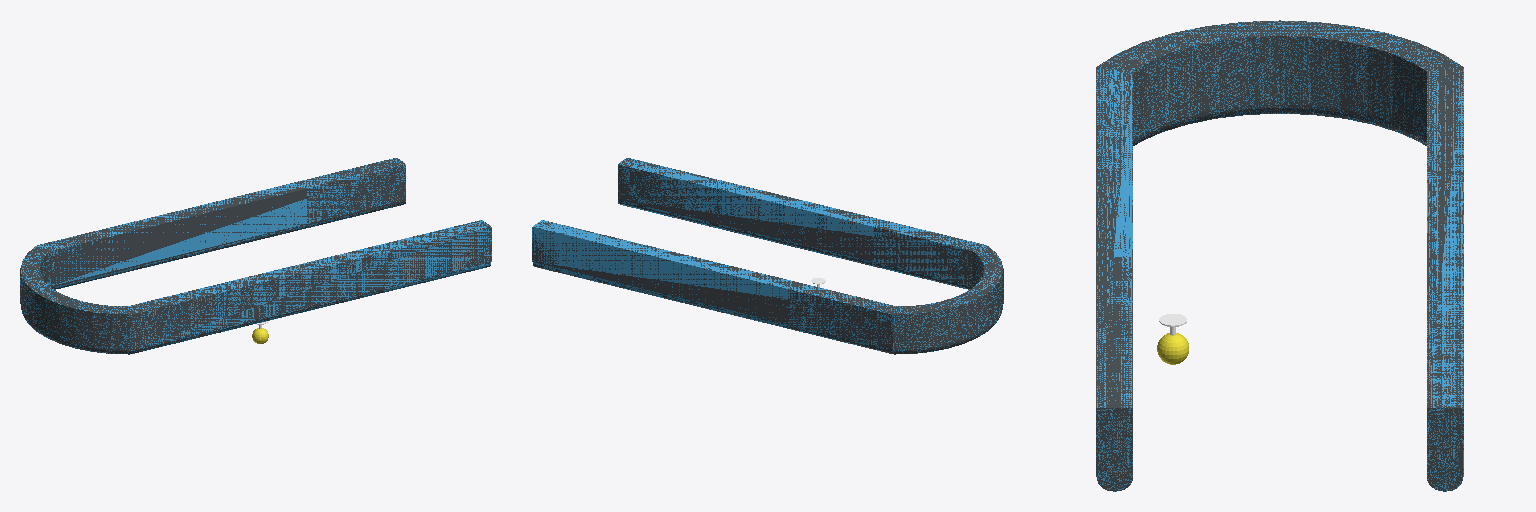
robot.urdf — right-pull-door:
<?xml version="1.0" ?>
<robot name="right-pull-door">
	<link name="base"/>
	<link name="link_0">
		<visual name="out-frame">
			<origin xyz="0 0 0"/>
			<geometry>
				<mesh filename="texture_dae/frame.dae" scale="0.7385647294113814 0.7385647294113814 0.7385647294113814"/>
			</geometry>
		</visual>
		<collision>
			<origin xyz="0 0 0"/>
			<geometry>
				<mesh filename="texture_dae/frame.dae" scale="0.7385647294113814 0.7385647294113814 0.7385647294113814"/>
			</geometry>
		</collision>
	</link>
	<joint name="joint_0" type="fixed">
		<origin rpy="1.570796326794897 0 -1.570796326794897" xyz="0 0 0"/>
		<child link="link_0"/>
		<parent link="base"/>
	</joint>
	<link name="link_1">
		<visual name="surf-board">
			<origin xyz="0.2948917882924568 -0.8479565114682159 0"/>
			<geometry>
				<mesh filename="texture_dae/board.dae" scale="0.7385647294113814 0.7385647294113814 0.7385647294113814"/>
			</geometry>
		</visual>
		<collision>
			<origin xyz="0.2948917882924568 -0.8479565114682159 0"/>
			<geometry>
				<mesh filename="texture_dae/board.dae" scale="0.7385647294113814 0.7385647294113814 0.7385647294113814"/>
			</geometry>
		</collision>
	</link>
	<joint name="joint_1" type="revolute">
		<origin xyz="-0.2948917882924568 0.8479565114682159 0"/>
		<axis xyz="0 -1 0"/>
		<child link="link_1"/>
		<parent link="link_0"/>
		<limit lower="0" upper="1.5079644737231006"/>
	</joint>
	<link name="link_2">
		<visual name="handle">
			<origin xyz="0 0 0"/>
			<geometry>
				<mesh filename="texture_dae/9962024.dae" scale="1.4908545696326903 1.4908545696326903 1.4908545696326903"/>
			</geometry>
		</visual>
		<collision>
			<origin xyz="0 0 0"/>
			<geometry>
				<mesh filename="texture_dae/9962024.dae" scale="1.4908545696326903 1.4908545696326903 1.4908545696326903"/>
			</geometry>
		</collision>
	</link>
	<joint name="joint_2" type="revolute">
		<origin xyz="0.5108517093344074 -0.9722547823697163 0.028206380412217683"/>
		<child link="link_2"/>
		<parent link="link_1"/>
		<axis xyz="0 0 1"/>
		<limit lower="0" upper="1.5079644737231006"/>
	</joint>
</robot>

--- Render facts (derived) ---
3 views of the same robot in one strip: view 1: azimuth 30°, elevation 25°; view 2: azimuth 150°, elevation 25°; view 3: azimuth 270°, elevation 25° (orthographic).
Robot: right-pull-door — 4 links, 3 joints (2 revolute, 1 fixed); root link base; default pose: all joints at 0.
Visible links, largest first — view 1: link_0; view 2: link_0; view 3: link_0, link_2.
Boxes of the visible links, x1,y1,x2,y2 form: link_0: (20,158,491,354); link_0: (532,158,1003,354); link_0: (1096,20,1463,491); link_2: (1157,314,1188,364).
Size in the robot's own frame: 1.85 by 0.7386 by 0.3444 metres.
2 mesh visuals loaded from 3 distinct referenced files (2 Collada DAE); not drawn: 1 (reference not matched to a file when rendering).
